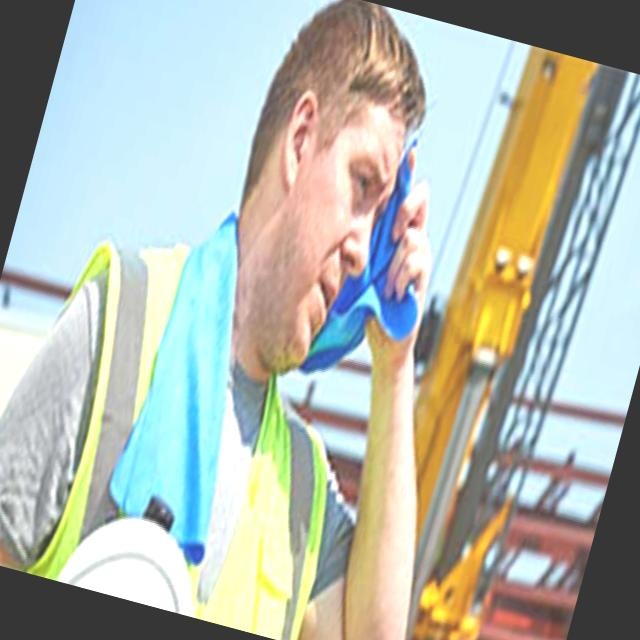no-goggles: (262, 115, 408, 236)
no-helmet: (227, 0, 472, 246)
vest: (4, 204, 381, 640)
